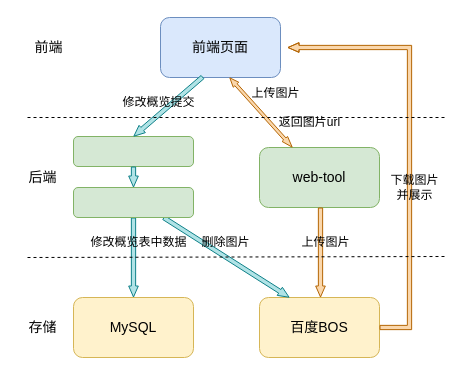
Some shapes in this 466 by 375 pixel diagram are drawn without their labels. The shapes that lost their labels are listed below. From the top down, each one's box as (x1, y1, x2, y2) in pixels, then its label:
(72, 136, 194, 166): web-api
(72, 186, 194, 218): job-notify
